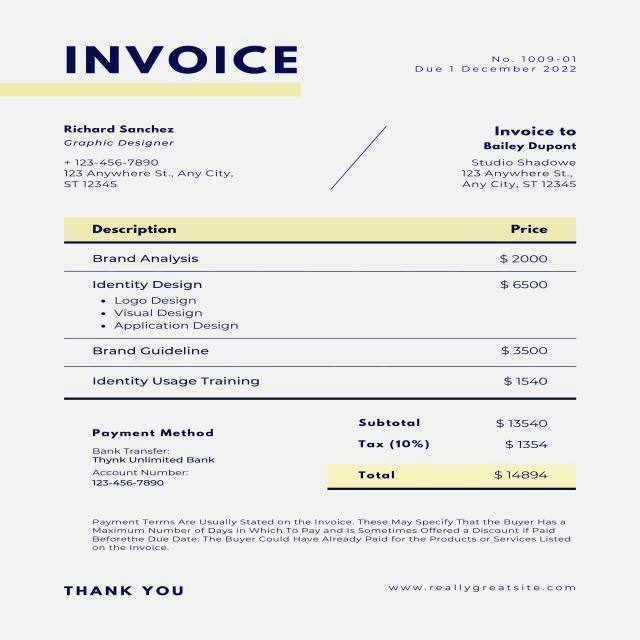paragraph: (88, 513, 578, 556), (353, 411, 561, 488), (58, 119, 242, 192), (56, 35, 302, 79), (83, 420, 225, 494), (454, 120, 586, 195), (409, 47, 581, 77), (385, 578, 583, 598), (59, 577, 192, 602)
table: (72, 213, 578, 399)
